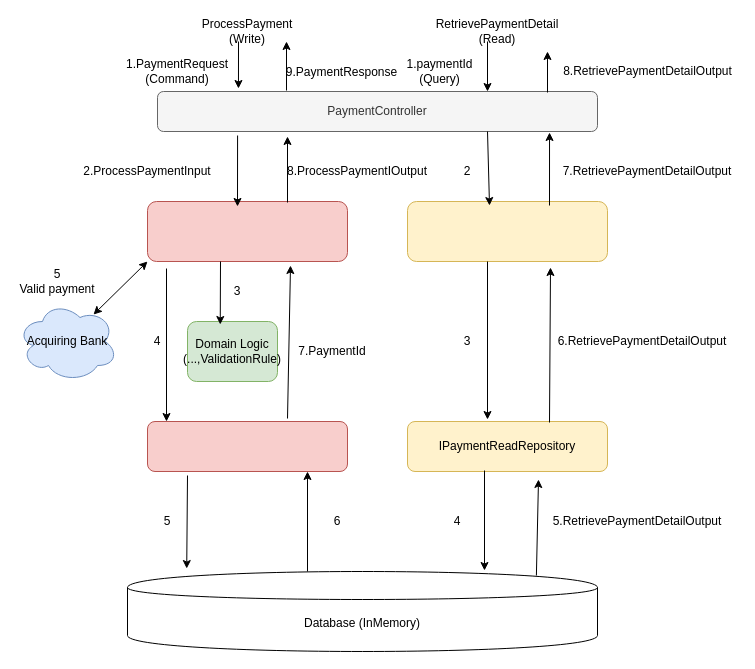
The diagram is 755 pixels wide and 669 high, and some of its shapes have lost their labels. The shapes that lost their labels are listed below. From the top down, each one's box as (x1, y1, x2, y2) in pixels, then its label:
(146, 200, 348, 262): ProcePayment (/UseCase)
(406, 200, 608, 262): RetrievePayment (/UseCase)
(146, 420, 348, 472): IPaymentWriteRepository
